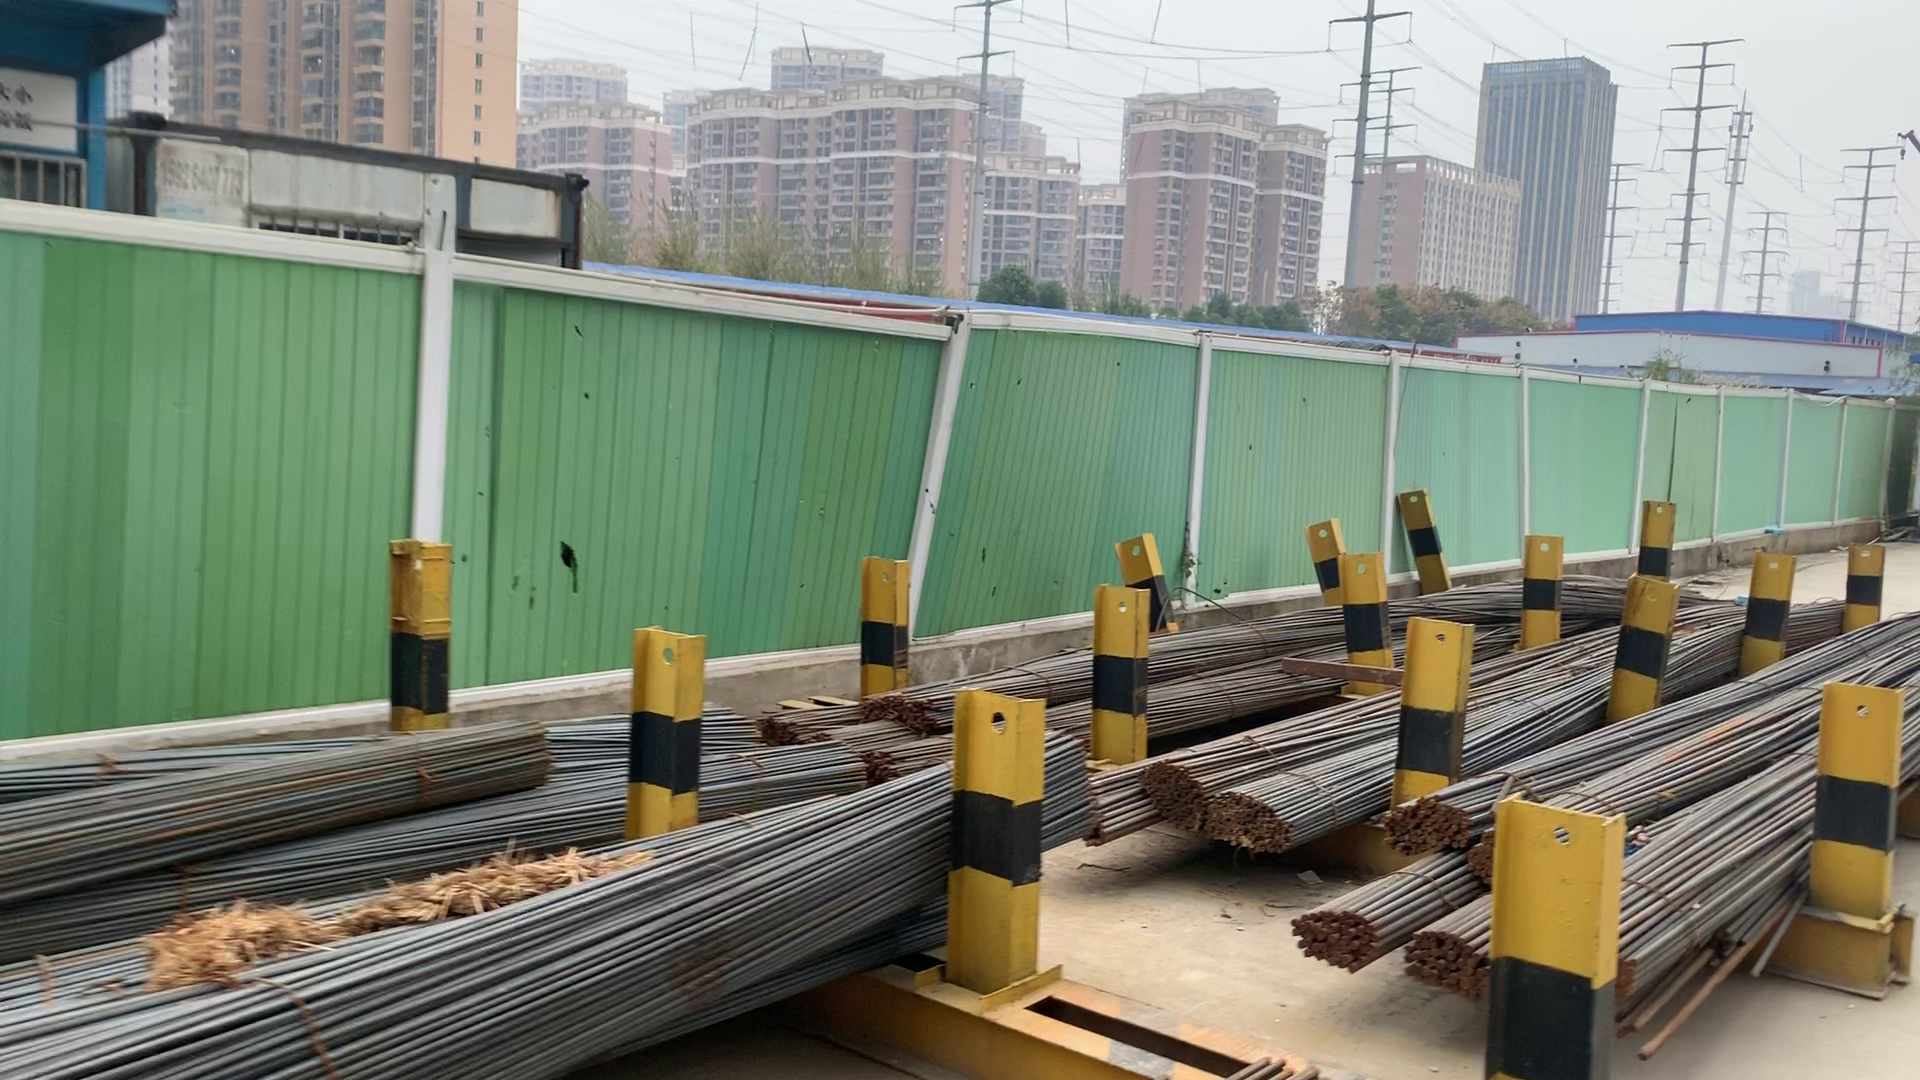rebar: (1291, 902, 1375, 976), (1402, 930, 1487, 998), (1207, 793, 1294, 855), (1377, 798, 1470, 855), (1141, 760, 1203, 837), (872, 691, 930, 729), (866, 750, 897, 781)
